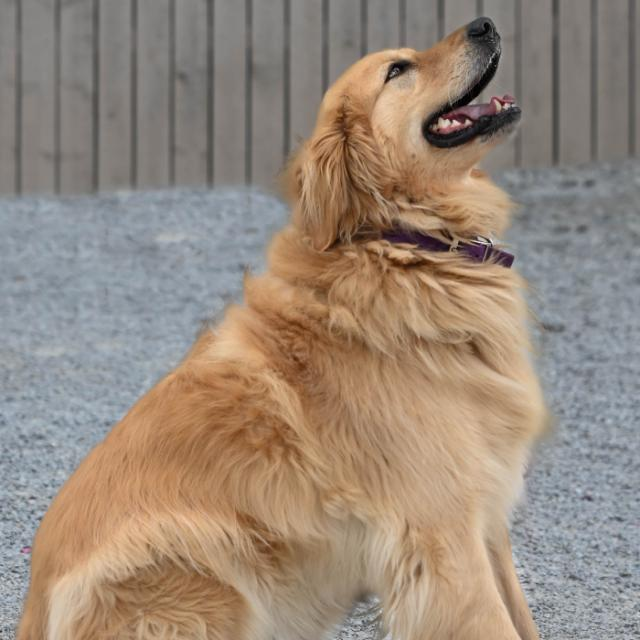golden_retriever_dog: (272, 11, 564, 254)
